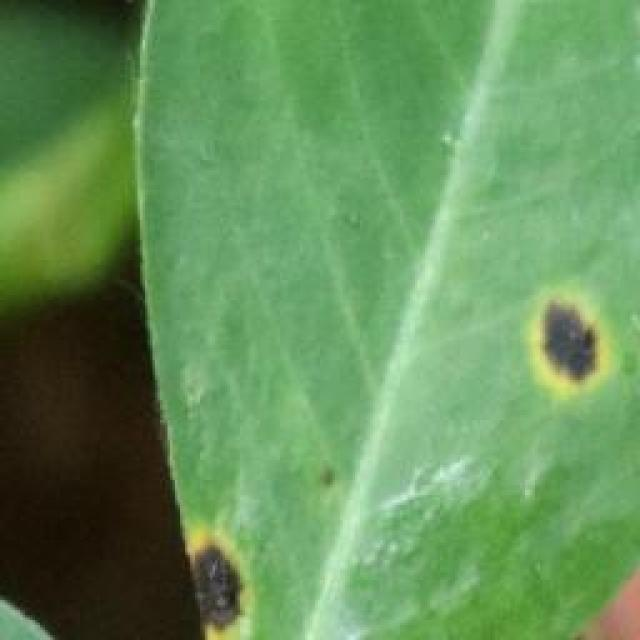Sigatoka: (494, 270, 634, 432), (164, 523, 262, 640), (289, 429, 372, 522)
